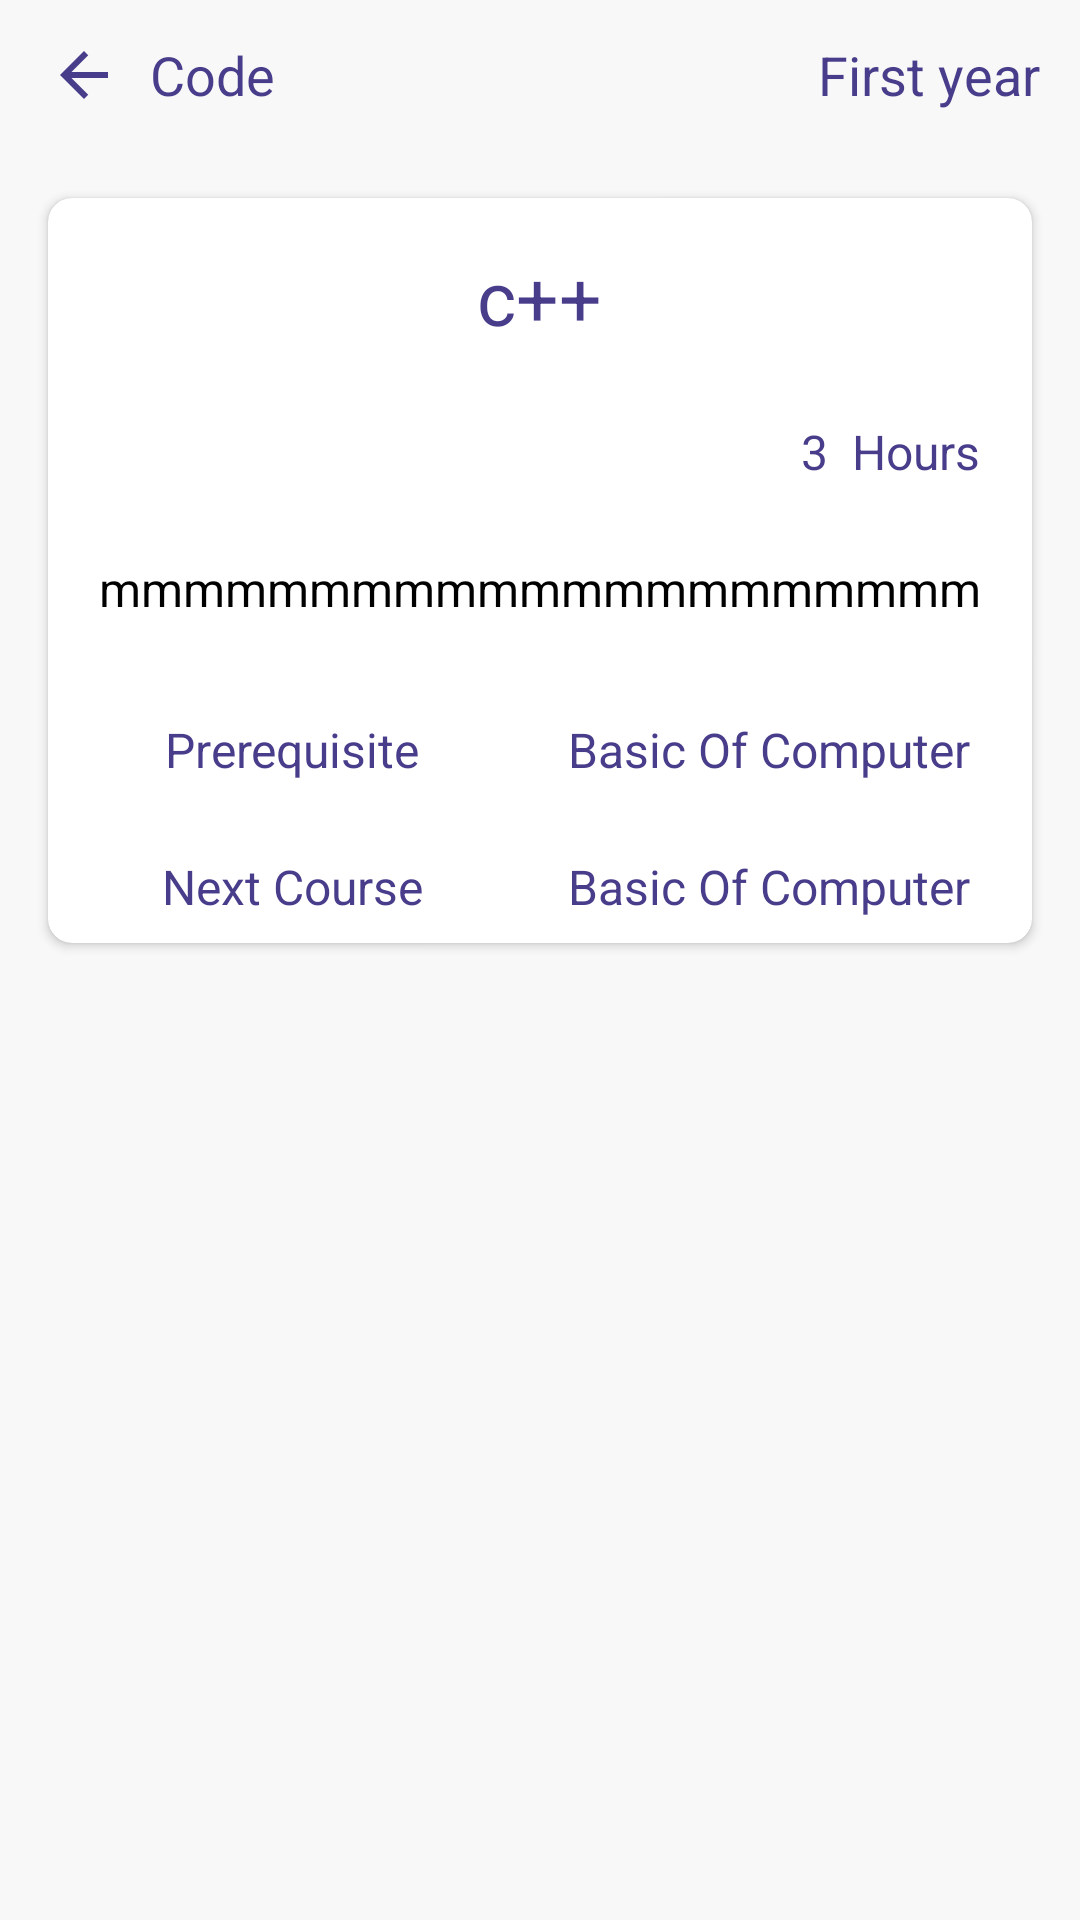

Icons on this 1080px x 1920px Android screen, each with the point to tap as (x,y):
arrow back: (84,75)
